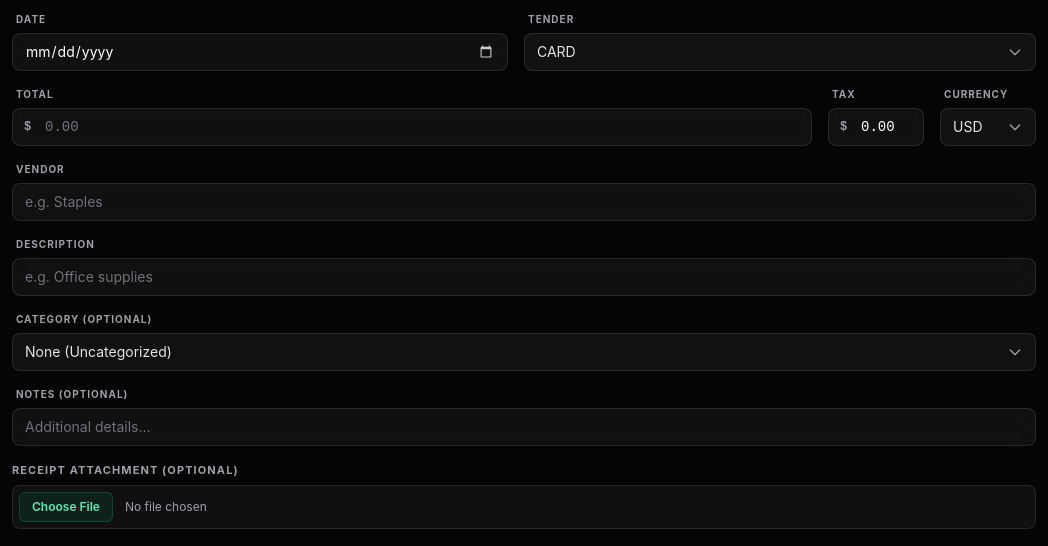
Test: CreateExpenseForm › updates fields cleanly including category, money inputs, and file attachment/removal
Later steps or results of the test are not shown.
Type "2026-04-10" into the date field labelled "Date".
click(260, 52); type("2026-04-10")  # box [12,33,508,71]
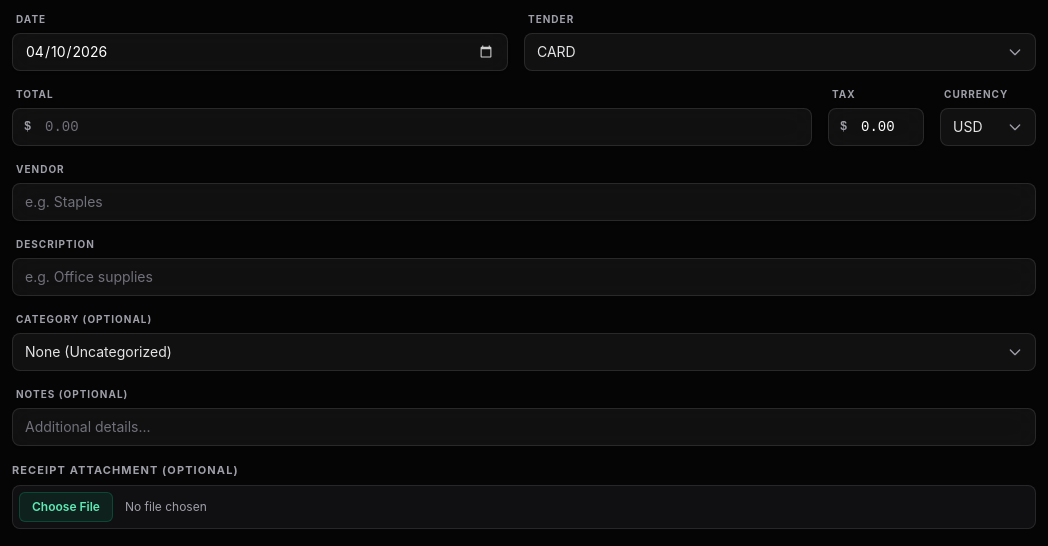
Click the button named "Tender".
click(556, 52)  # box [524,33,1036,71]
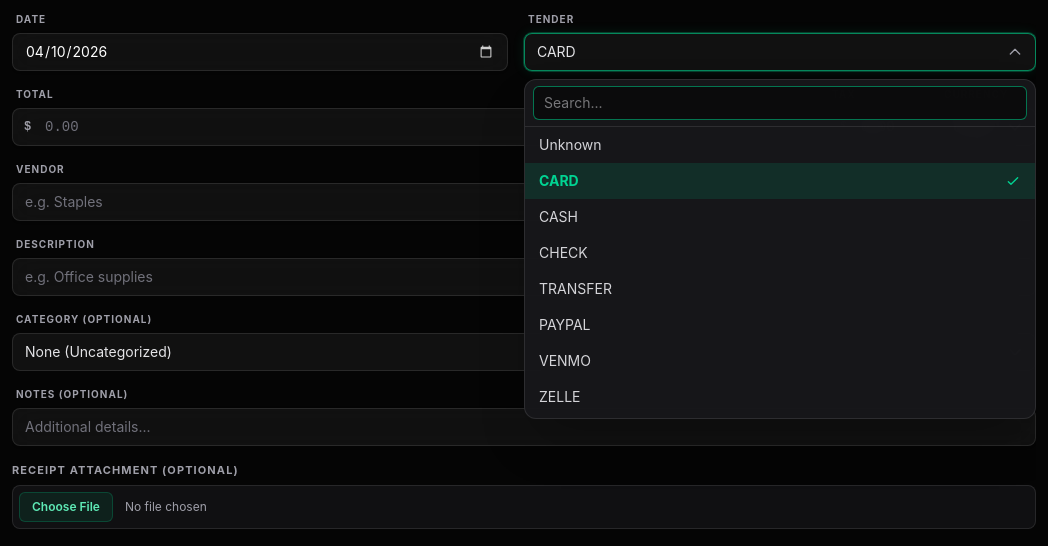
Click the option "CASH".
click(558, 216)  # box [525,199,1035,235]
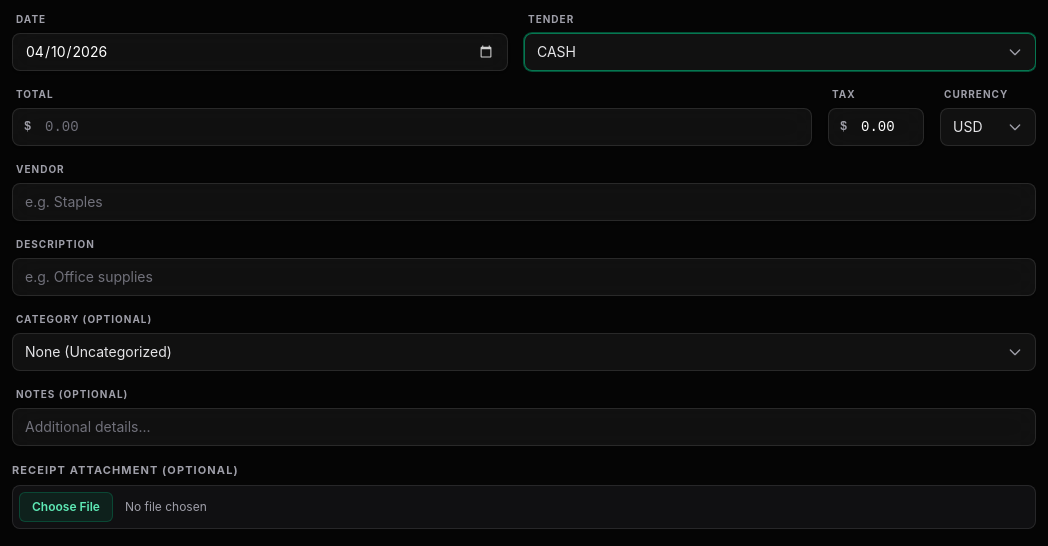
Check: the text "CASH" is shown, box [537,43,576,60]
